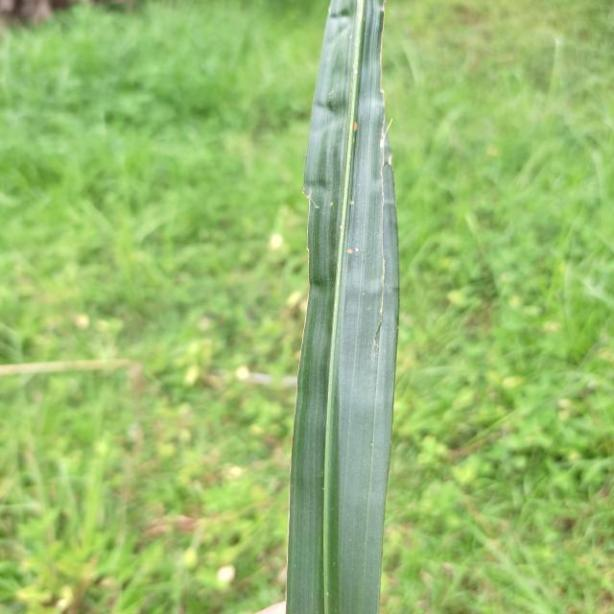Boron: (288, 0, 398, 614)
